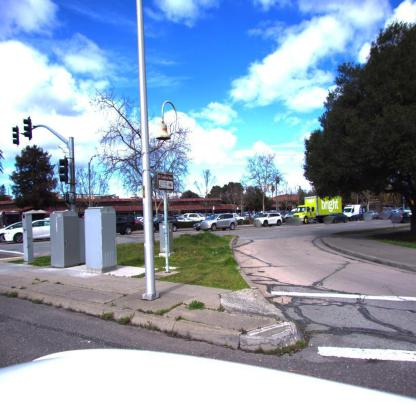car: (2, 220, 50, 245), (196, 214, 239, 232), (117, 214, 142, 235), (254, 212, 283, 226), (154, 216, 180, 231), (390, 209, 410, 223), (178, 214, 205, 224), (364, 211, 380, 221)
traffic light: (59, 158, 68, 184), (24, 117, 33, 141), (13, 126, 20, 146)
truck: (303, 196, 346, 224), (344, 204, 366, 221)
